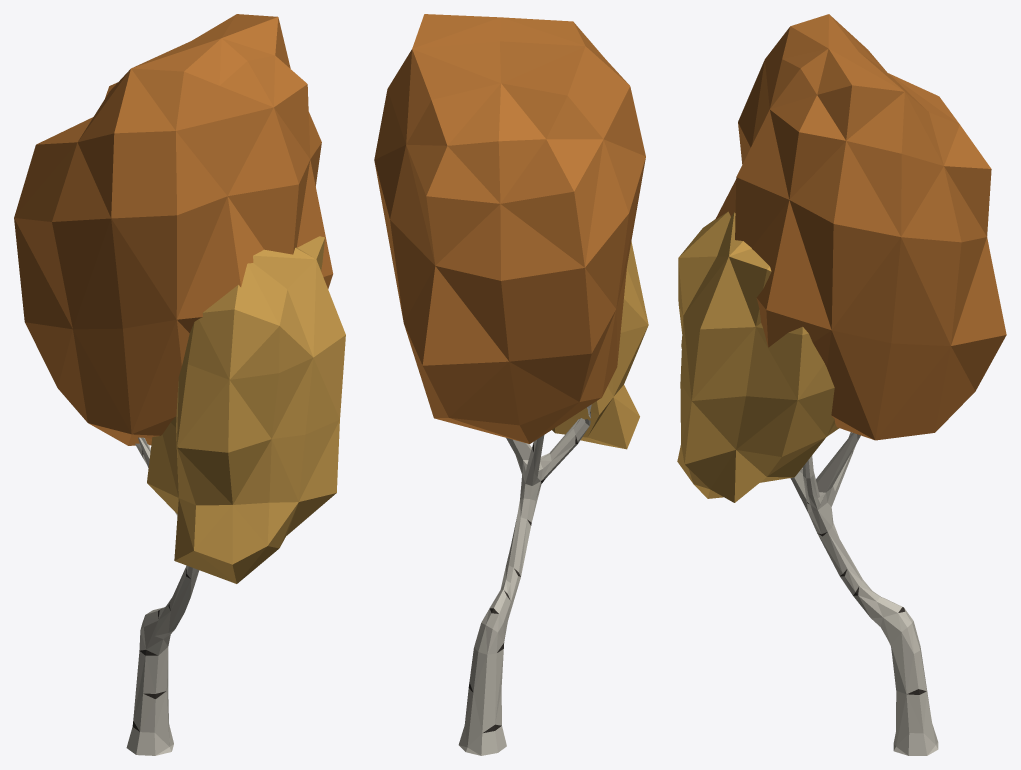
File: BirchTree_Autumn_2.glb
The picture shows the model from 3 angles, left to right: view 1: azimuth 30°, elevation 25°; view 2: azimuth 150°, elevation 25°; view 3: azimuth 270°, elevation 25°; orthographic projection. The views are drawn at different scales.
Parts seen in each view (by area): view 1: BirchTree_Autumn_2; view 2: BirchTree_Autumn_2; view 3: BirchTree_Autumn_2.
Part boxes in pixels (left/top/right/bottom): BirchTree_Autumn_2: left=14, top=14, right=345, bottom=755; BirchTree_Autumn_2: left=374, top=14, right=648, bottom=755; BirchTree_Autumn_2: left=677, top=14, right=1006, bottom=755.
Bounding box in the file's own units: 1.47 × 4.03 × 1.69.
